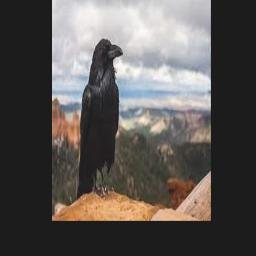Crow: (77, 38, 123, 199)
